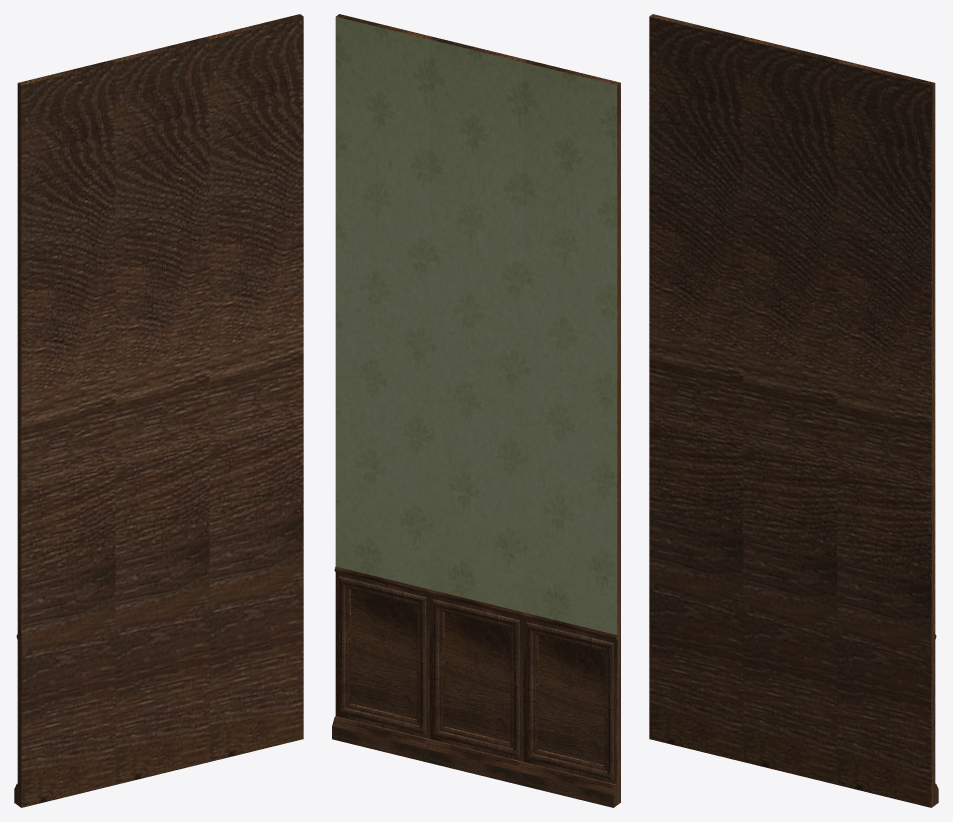
Rendered from Mur_V1_3X.fbx.
The picture shows the model from 3 angles, left to right: view 1: azimuth 30°, elevation 25°; view 2: azimuth 150°, elevation 25°; view 3: azimuth 330°, elevation 25°; orthographic projection.
Parts seen in each view (by area): view 1: Cube; view 2: Cube; view 3: Cube.
Boxes of the visible parts, box(x1,y1,x2,y2) form: Cube: box(14, 14, 303, 807); Cube: box(332, 14, 620, 807); Cube: box(649, 14, 938, 807).
Size of the model in its own units: 450 by 1100 by 20.
